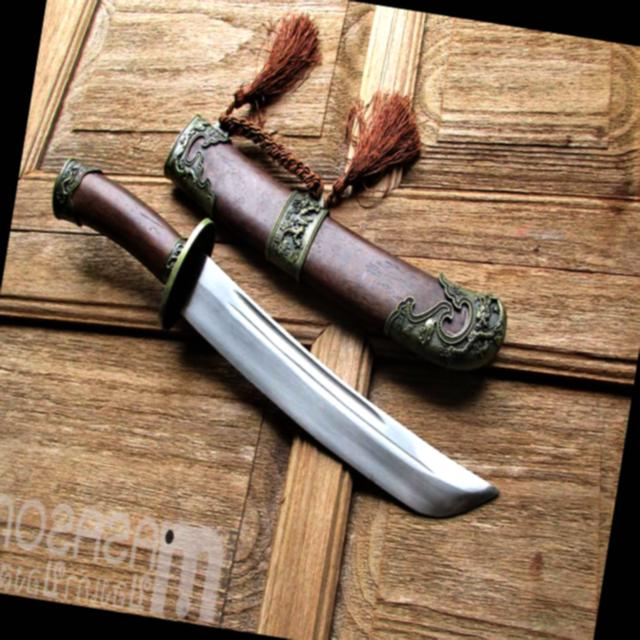short sword: (0, 0, 585, 547)
